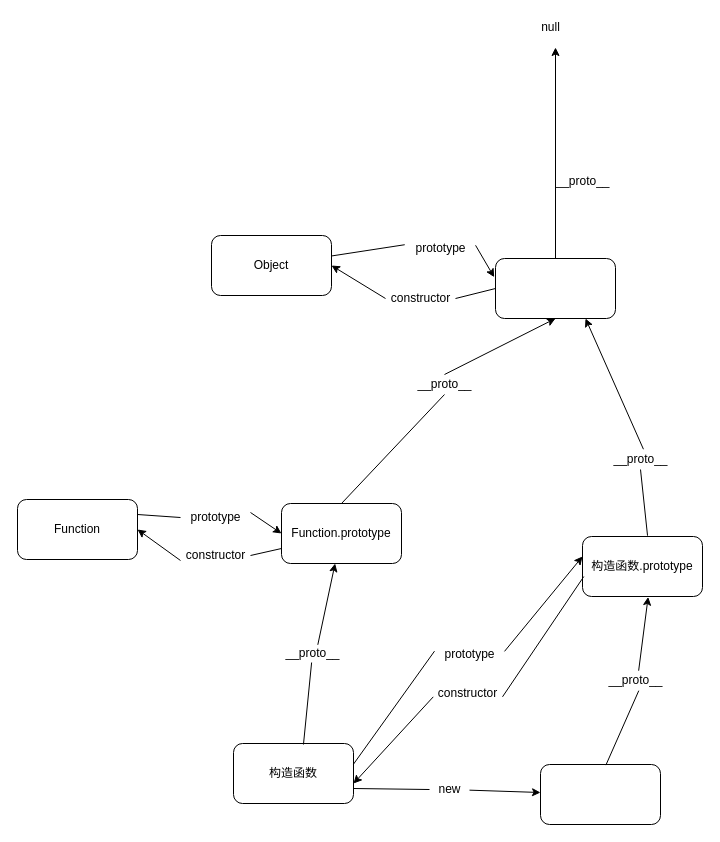
Some shapes in this 720 by 842 pixel diagram are drawn without their labels. Each missing label, with the box of its shape:
Object.prototype: (494, 258, 616, 318)
实例对象: (540, 764, 660, 824)
